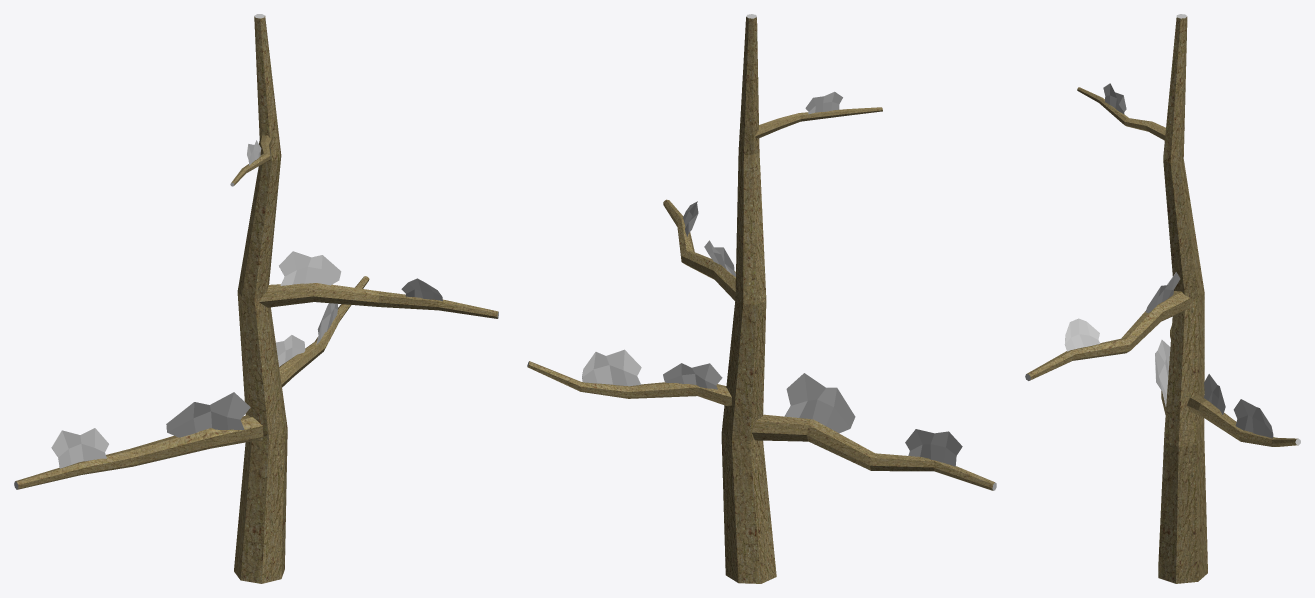
The model's file is TreeV2.fbx.
3 renders of one model, left to right at view 1: azimuth 30°, elevation 25°; view 2: azimuth 150°, elevation 25°; view 3: azimuth 270°, elevation 25°, orthographic.
Visible parts, largest first — view 1: Tree, Leaves; view 2: Tree, Leaves; view 3: Tree, Leaves.
Boxes of the visible parts, bbox=[...] form: Tree: bbox=[14, 14, 498, 583]; Leaves: bbox=[51, 140, 442, 468]; Tree: bbox=[527, 14, 996, 583]; Leaves: bbox=[582, 91, 962, 466]; Tree: bbox=[1025, 14, 1300, 583]; Leaves: bbox=[1064, 83, 1273, 438].
Bounding box in the file's own units: 1803 × 2341 × 1051.
